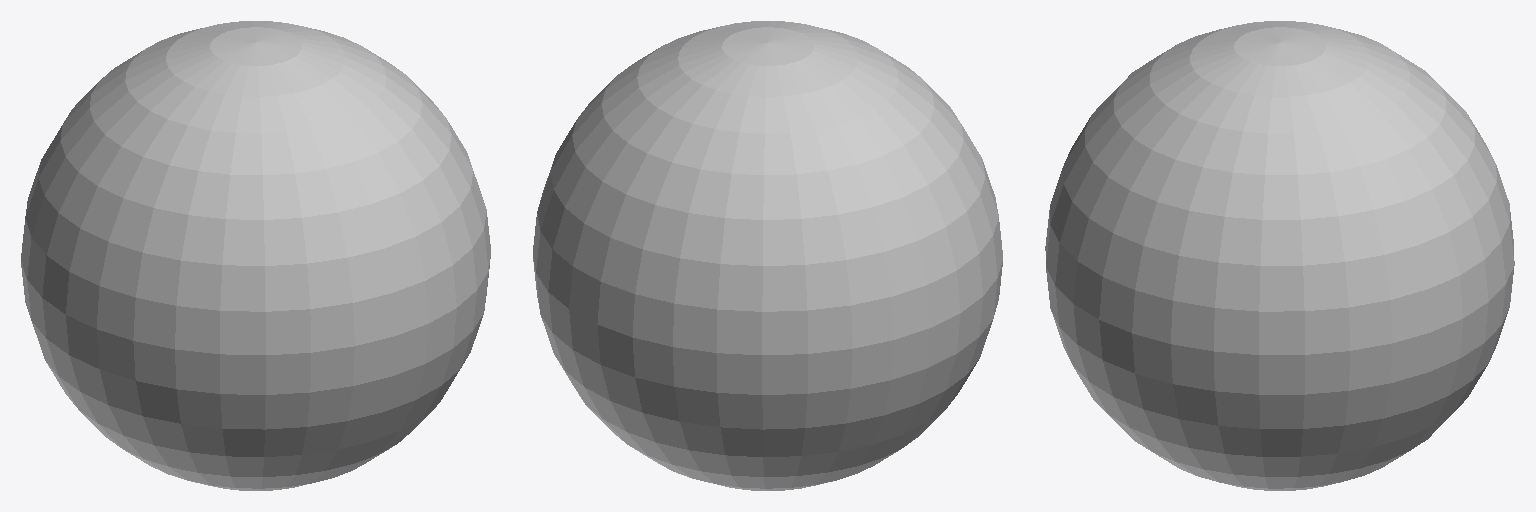
File: uranus.obj
The picture shows the model from 3 angles: view 1: azimuth 30°, elevation 25°; view 2: azimuth 150°, elevation 25°; view 3: azimuth 270°, elevation 25°; orthographic projection.
Visible parts, largest first — view 1: Uranus_Sphere.006; view 2: Uranus_Sphere.006; view 3: Uranus_Sphere.006.
Part boxes in pixels (bbox=[...]): Uranus_Sphere.006: bbox=[21, 21, 490, 490]; Uranus_Sphere.006: bbox=[533, 21, 1002, 490]; Uranus_Sphere.006: bbox=[1045, 21, 1514, 490].
Size of the model in its own units: 3.59 by 3.6 by 3.59.